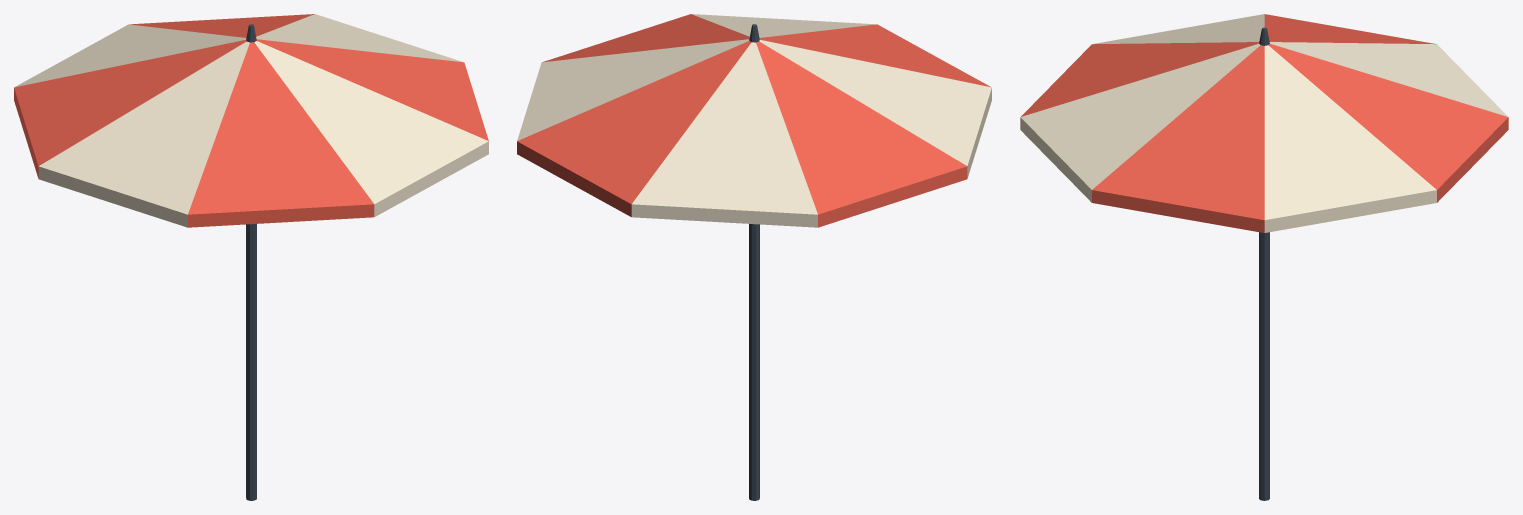
File: umbrella.glb
3 renders of one model, left to right at view 1: azimuth 30°, elevation 25°; view 2: azimuth 150°, elevation 25°; view 3: azimuth 270°, elevation 25°, orthographic.
Parts seen in each view (by area): view 1: beach_umbrella; view 2: beach_umbrella; view 3: beach_umbrella.
Part boxes in pixels (<box>): beach_umbrella: <box>14,14,488,500</box>; beach_umbrella: <box>517,14,991,500</box>; beach_umbrella: <box>1020,14,1508,500</box>.
Size of the model in its own units: 2.4 by 2.55 by 2.4.
1 material, 1 textured.
